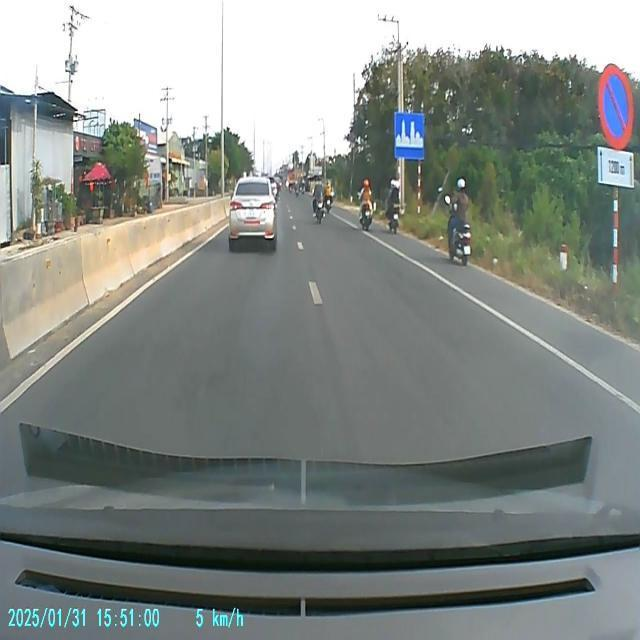131a-cam-do-xe: (598, 64, 634, 144)
420-bat-dau-khu-dong-dan-cu: (396, 108, 426, 163)
